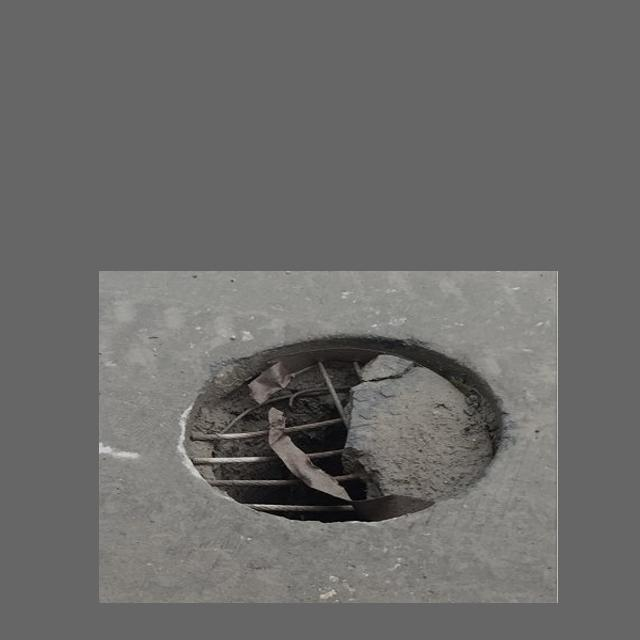broke: (169, 319, 507, 541)
